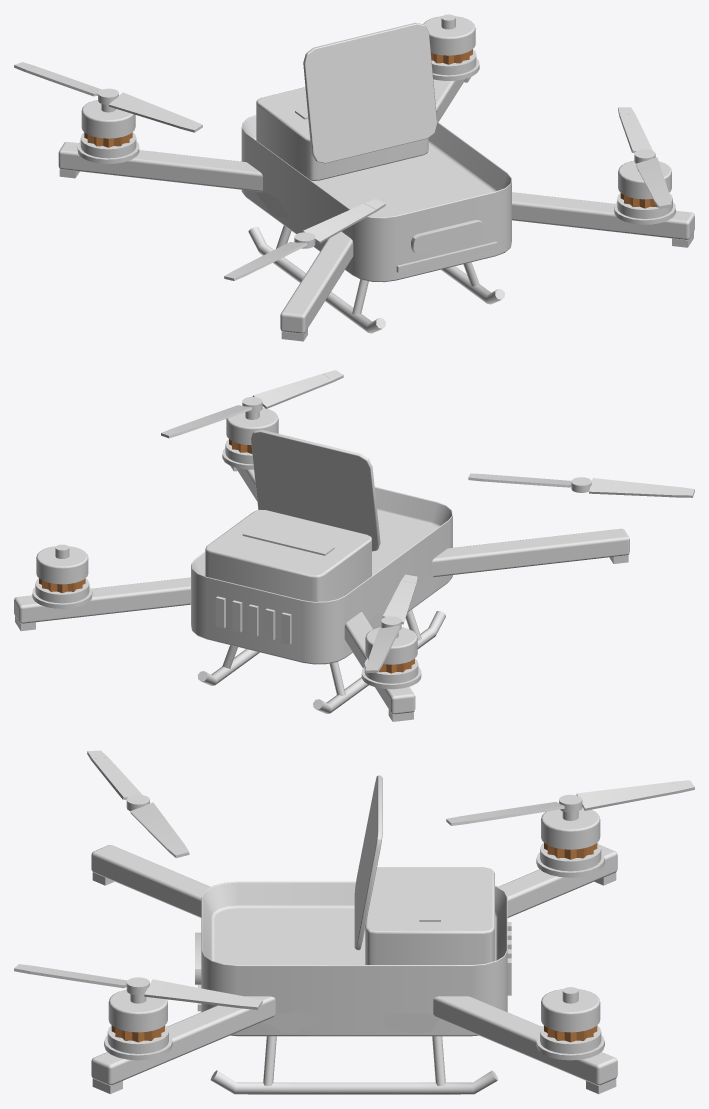
File: SalvageDrone_Body.fbx
3 views of the same model, one above another, from view 1: azimuth 30°, elevation 25°; view 2: azimuth 150°, elevation 25°; view 3: azimuth 270°, elevation 25° (orthographic). The views are drawn at different scales.
Parts seen in each view (by area): view 1: Drone_Shell, Drone_Lid, Drone_Battery, Drone_Arm_bl, Drone_Arm_fr, Drone_Arm_fl, Drone_LidWaterStain, Drone_Prop_bl_Blades, Drone_Prop_fl_Blades, Drone_Prop_fr_Blades, Drone_Motor_br_Bell, Drone_Motor_bl_Bell (+9 smaller); view 2: Drone_Shell, Drone_Battery, Drone_Lid, Drone_Arm_fl, Drone_Arm_br, Drone_Prop_fl_Blades, Drone_Prop_fr_Blades, Drone_Arm_bl, Drone_Prop_bl_Blades, Drone_RearVent, Drone_Motor_br_Bell, Drone_Motor_fr_Bell (+7 smaller); view 3: Drone_Shell, Drone_Battery, Drone_Arm_br, Drone_Arm_fr, Drone_Arm_fl, Drone_Skid_R, Drone_Prop_fr_Blades, Drone_Prop_bl_Blades, Drone_Arm_bl, Drone_Prop_fl_Blades, Drone_Lid, Drone_Motor_br_Bell (+12 smaller).
Part boxes in pixels (x1=…): Drone_Shell: x1=241, y1=115, x2=511, y2=282; Drone_Lid: x1=303, y1=22, x2=437, y2=163; Drone_Battery: x1=256, y1=87, x2=428, y2=180; Drone_Arm_bl: x1=58, y1=142, x2=262, y2=191; Drone_Arm_fr: x1=512, y1=192, x2=694, y2=239; Drone_Arm_fl: x1=280, y1=231, x2=353, y2=333; Drone_LidWaterStain: x1=324, y1=77, x2=413, y2=125; Drone_Prop_bl_Blades: x1=25, y1=66, x2=190, y2=128; Drone_Prop_fl_Blades: x1=233, y1=203, x2=376, y2=275; Drone_Prop_fr_Blades: x1=619, y1=114, x2=670, y2=201; Drone_Motor_br_Bell: x1=423, y1=16, x2=475, y2=55; Drone_Motor_bl_Bell: x1=81, y1=100, x2=135, y2=138; Drone_Shell: x1=191, y1=487, x2=452, y2=664; Drone_Battery: x1=205, y1=509, x2=371, y2=601; Drone_Lid: x1=251, y1=429, x2=380, y2=551; Drone_Arm_fl: x1=432, y1=528, x2=629, y2=577; Drone_Arm_br: x1=14, y1=577, x2=190, y2=623; Drone_Prop_fl_Blades: x1=483, y1=474, x2=679, y2=497; Drone_Prop_fr_Blades: x1=172, y1=373, x2=332, y2=433; Drone_Arm_bl: x1=344, y1=612, x2=415, y2=714; Drone_Prop_bl_Blades: x1=367, y1=581, x2=416, y2=665; Drone_RearVent: x1=215, y1=596, x2=291, y2=644; Drone_Motor_br_Bell: x1=36, y1=546, x2=88, y2=584; Drone_Motor_fr_Bell: x1=226, y1=408, x2=278, y2=445; Drone_Shell: x1=201, y1=881, x2=507, y2=1036; Drone_Battery: x1=365, y1=867, x2=494, y2=964; Drone_Arm_br: x1=433, y1=996, x2=617, y2=1085; Drone_Arm_fr: x1=91, y1=996, x2=275, y2=1085; Drone_Arm_fl: x1=91, y1=845, x2=210, y2=917; Drone_Skid_R: x1=210, y1=1070, x2=498, y2=1094; Drone_Prop_fr_Blades: x1=30, y1=966, x2=245, y2=1008; Drone_Prop_bl_Blades: x1=463, y1=782, x2=678, y2=823; Drone_Arm_bl: x1=498, y1=845, x2=617, y2=917; Drone_Prop_fl_Blades: x1=91, y1=757, x2=184, y2=850; Drone_Lid: x1=354, y1=775, x2=382, y2=950; Drone_Motor_br_Bell: x1=541, y1=989, x2=600, y2=1032.
Bounding box in the file's own units: 0.3375 × 0.1587 × 0.3781.
